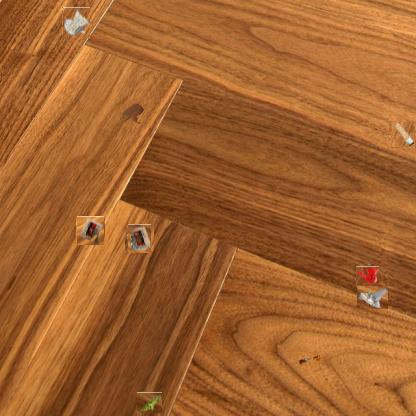dirty: (62, 7, 90, 38), (76, 217, 105, 245), (356, 286, 388, 310), (126, 226, 153, 252), (390, 123, 415, 148), (138, 391, 161, 414), (296, 352, 320, 366)
liquid: (119, 102, 145, 126), (357, 265, 378, 287)
